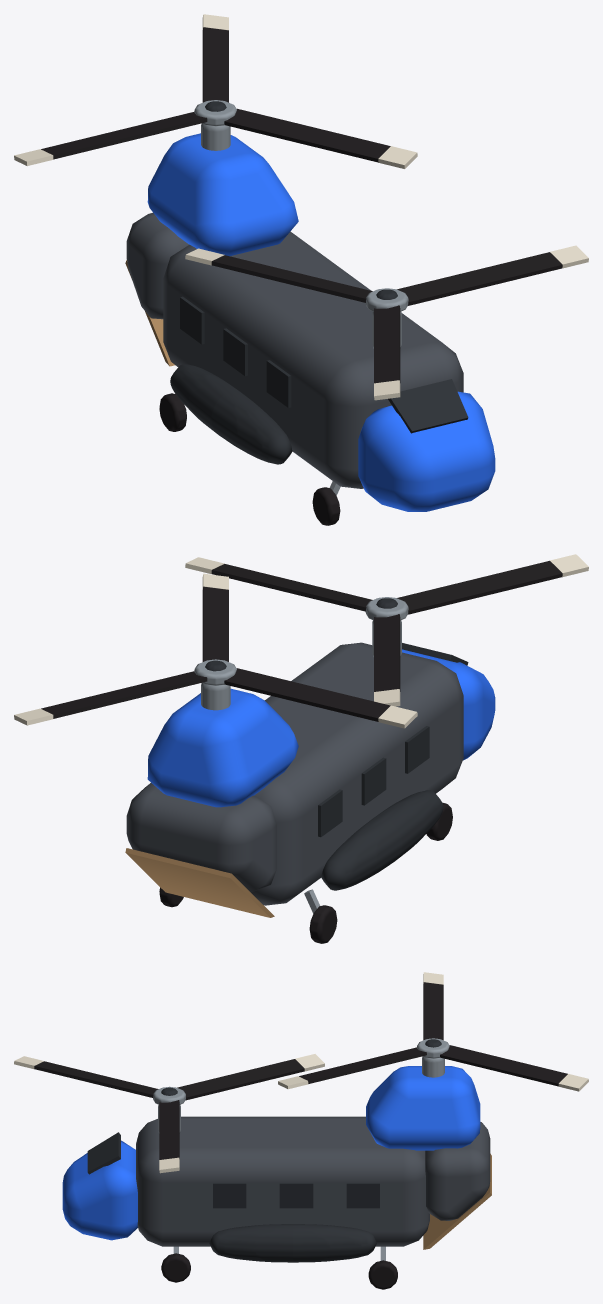
The model's file is transport_chopper.glb.
The picture shows the model from 3 angles, top to bottom: view 1: azimuth 30°, elevation 25°; view 2: azimuth 150°, elevation 25°; view 3: azimuth 270°, elevation 25°; orthographic projection. The views are drawn at different scales.
Visible parts, largest first — view 1: transport_chopper__M_SmokePlastic, transport_chopper__M_Team, transport_chopper__M_Dark, spinner__M_Licorice, spinner_1__M_Licorice, transport_chopper__M_Licorice, spinner__M_CreamPlastic, spinner_1__M_CreamPlastic, transport_chopper__M_SpringSteel, spinner_1__M_SpringSteel; view 2: transport_chopper__M_SmokePlastic, transport_chopper__M_Team, transport_chopper__M_Dark, spinner__M_Licorice, spinner_1__M_Licorice, transport_chopper__M_Kraft, transport_chopper__M_Licorice, spinner_1__M_CreamPlastic, spinner__M_CreamPlastic, transport_chopper__M_SpringSteel, spinner_1__M_SpringSteel, spinner__M_SpringSteel; view 3: transport_chopper__M_SmokePlastic, transport_chopper__M_Team, transport_chopper__M_Dark, spinner__M_Licorice, spinner_1__M_Licorice, transport_chopper__M_Licorice, transport_chopper__M_Kraft, spinner_1__M_CreamPlastic, spinner__M_CreamPlastic, transport_chopper__M_SpringSteel.
Part boxes in pixels (x1,y1,x2,y2): transport_chopper__M_SmokePlastic: (126, 213, 463, 488); transport_chopper__M_Team: (147, 133, 495, 511); transport_chopper__M_Dark: (170, 296, 468, 464); spinner__M_Licorice: (211, 252, 562, 383); spinner_1__M_Licorice: (41, 27, 390, 162); transport_chopper__M_Licorice: (159, 393, 340, 525); spinner__M_CreamPlastic: (185, 245, 588, 400); spinner_1__M_CreamPlastic: (14, 14, 417, 168); transport_chopper__M_SpringSteel: (201, 123, 401, 495); spinner_1__M_SpringSteel: (194, 100, 236, 126); transport_chopper__M_SmokePlastic: (126, 642, 463, 905); transport_chopper__M_Team: (147, 649, 495, 807); transport_chopper__M_Dark: (318, 643, 468, 890); spinner__M_Licorice: (211, 560, 562, 691); spinner_1__M_Licorice: (41, 586, 390, 721); transport_chopper__M_Kraft: (125, 848, 274, 917); transport_chopper__M_Licorice: (159, 802, 452, 943); spinner_1__M_CreamPlastic: (14, 573, 417, 728); spinner__M_CreamPlastic: (185, 554, 588, 706); transport_chopper__M_SpringSteel: (201, 620, 401, 913); spinner_1__M_SpringSteel: (194, 659, 236, 685); spinner__M_SpringSteel: (365, 597, 408, 620); transport_chopper__M_SmokePlastic: (136, 1116, 490, 1246); transport_chopper__M_Team: (62, 1066, 480, 1240); transport_chopper__M_Dark: (87, 1132, 379, 1262); spinner__M_Licorice: (34, 1059, 304, 1159); spinner_1__M_Licorice: (299, 982, 567, 1086); transport_chopper__M_Licorice: (161, 1253, 397, 1289); transport_chopper__M_Kraft: (423, 1153, 491, 1249); spinner_1__M_CreamPlastic: (278, 972, 588, 1091); spinner__M_CreamPlastic: (14, 1054, 324, 1173); transport_chopper__M_SpringSteel: (158, 1056, 444, 1260).
Size of the model in its own units: 1.04 by 0.7242 by 1.72.
